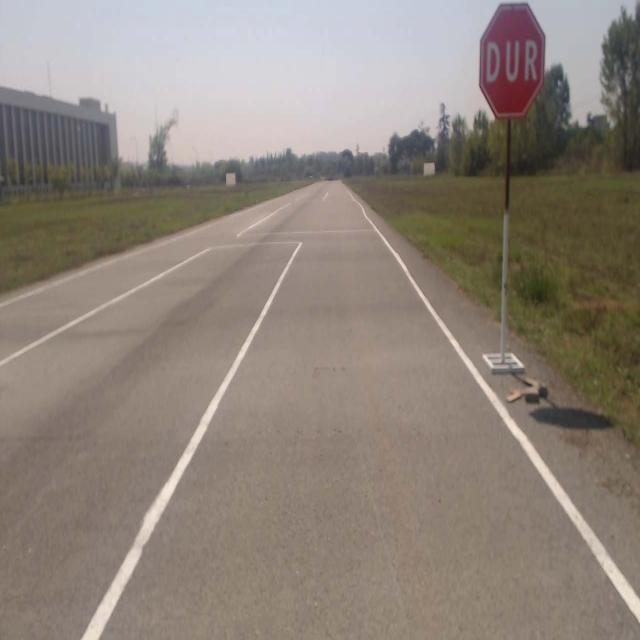dur: (479, 3, 545, 116)
